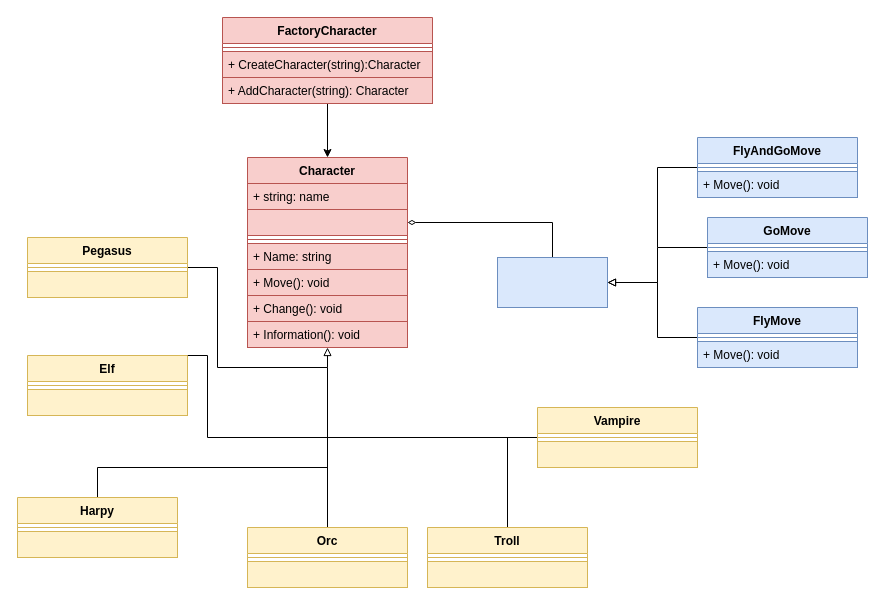
Some shapes in this 885 by 608 pixel diagram are drawn without their labels. Here are the shapes that lost their labels. From the top down, the centre of each, then its label:
At (327,222): "+ IMovable: movable".
At (107,284): "+ Pegasus()".
At (552,282): "«interface» IMovable".
At (107,402): "+ Elf()".
At (617,454): "+ Vampire()".
At (97,544): "+ Harpy()".
At (327,574): "+ Orc()".
At (507,574): "+ Troll()".
